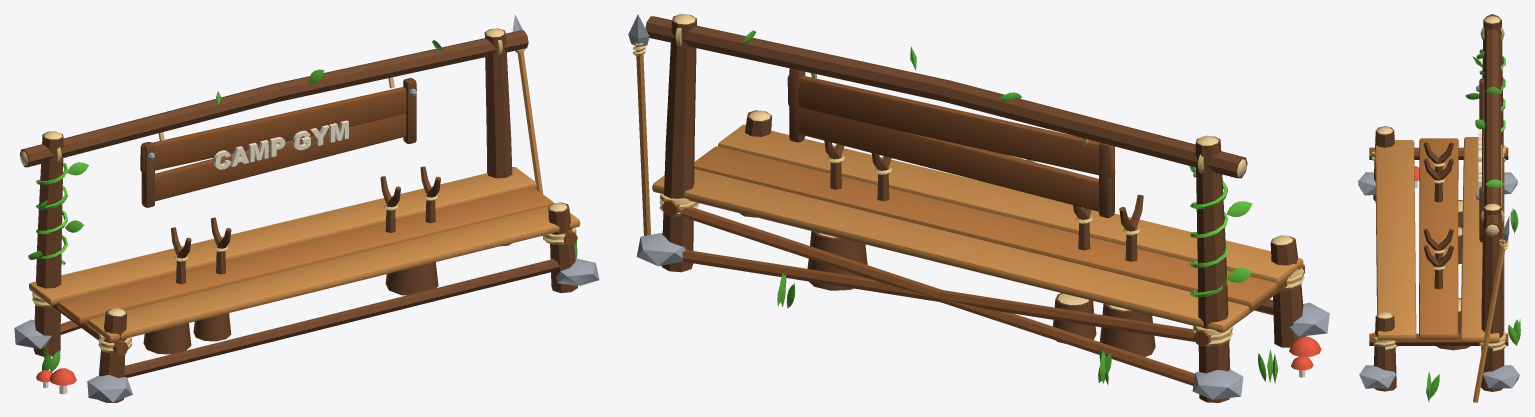
File: st_01_wooden.glb
The picture shows the model from 3 angles, left to right: view 1: azimuth 30°, elevation 25°; view 2: azimuth 150°, elevation 25°; view 3: azimuth 270°, elevation 25°; orthographic projection. The views are drawn at different scales.
Visible parts, largest first — view 1: st_01_wooden; view 2: st_01_wooden; view 3: st_01_wooden.
Part boxes in pixels (x1,y1,x2,y2): st_01_wooden: (14, 14, 599, 402); st_01_wooden: (628, 14, 1329, 402); st_01_wooden: (1358, 14, 1520, 402).
Bounding box in the file's own units: 10.8 × 4.3 × 3.33.
